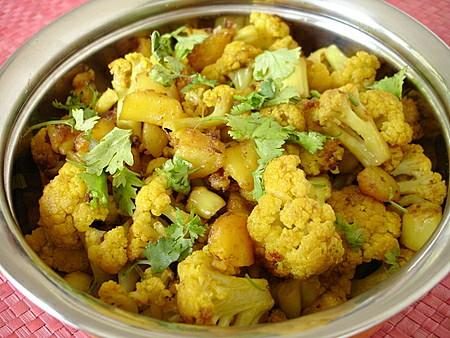AlooGobi: (25, 12, 446, 327)
